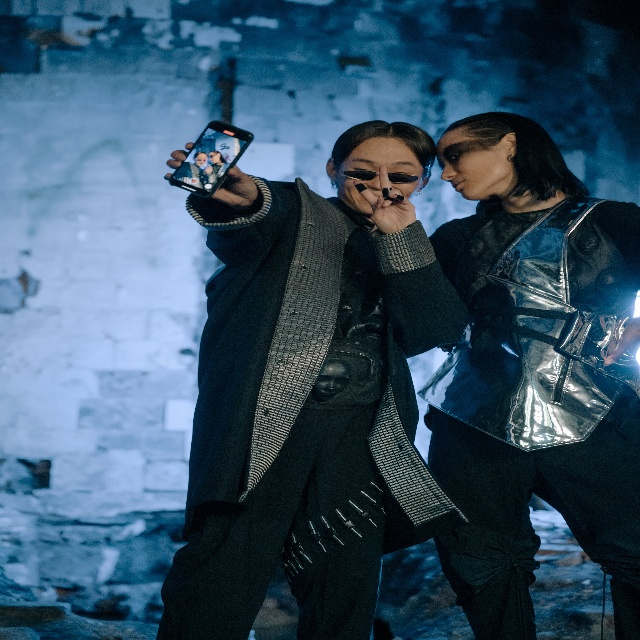Gafas: (341, 169, 416, 190)
Sin_guantes: (163, 137, 248, 205), (355, 168, 420, 229)
